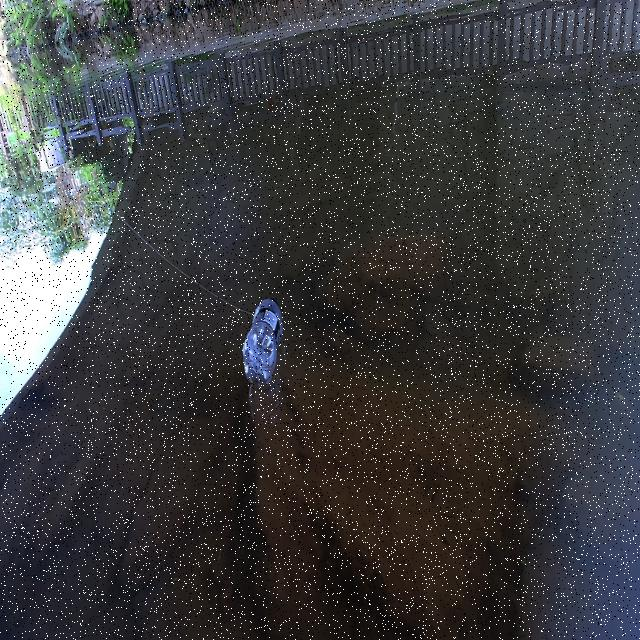Bottle: (240, 290, 284, 386)
